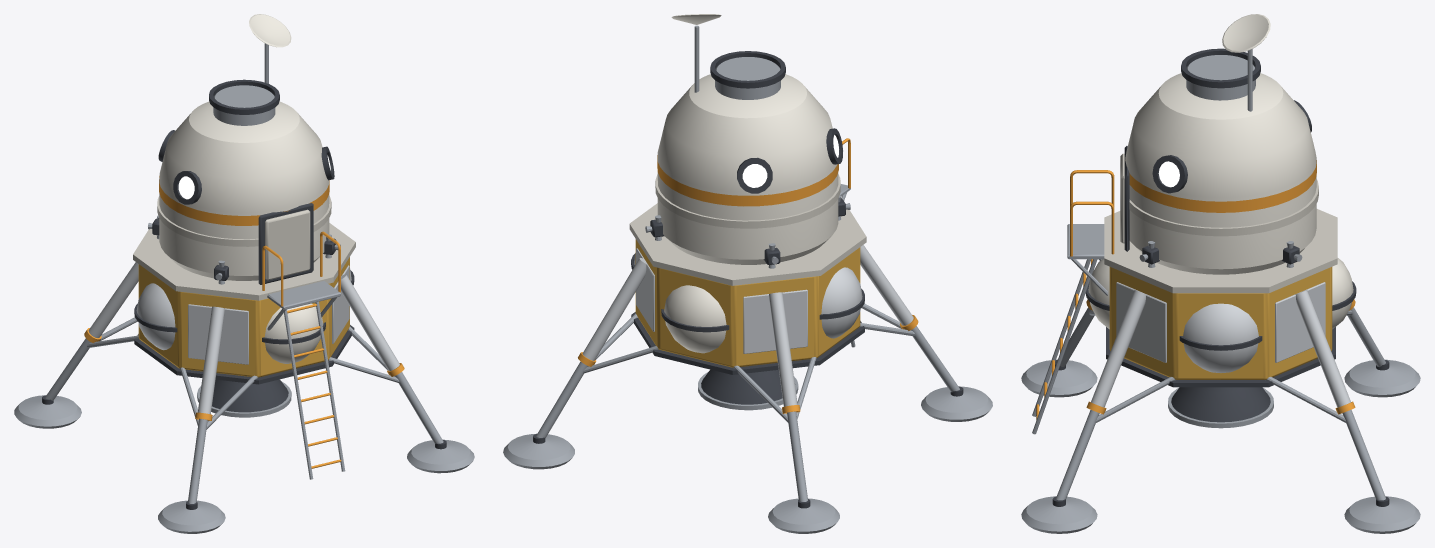
Rendered from lander_v4.glb.
The picture shows the model from 3 angles, left to right: view 1: azimuth 30°, elevation 25°; view 2: azimuth 150°, elevation 25°; view 3: azimuth 270°, elevation 25°; orthographic projection. The views are drawn at different scales.
Visible parts, largest first — view 1: body; view 2: body; view 3: body.
Part boxes in pixels (x1,y1,x2,y2): body: [14, 14, 474, 533]; body: [503, 14, 992, 533]; body: [1021, 14, 1420, 533].
Bounding box in the file's own units: 4.8 × 5.97 × 4.81.
